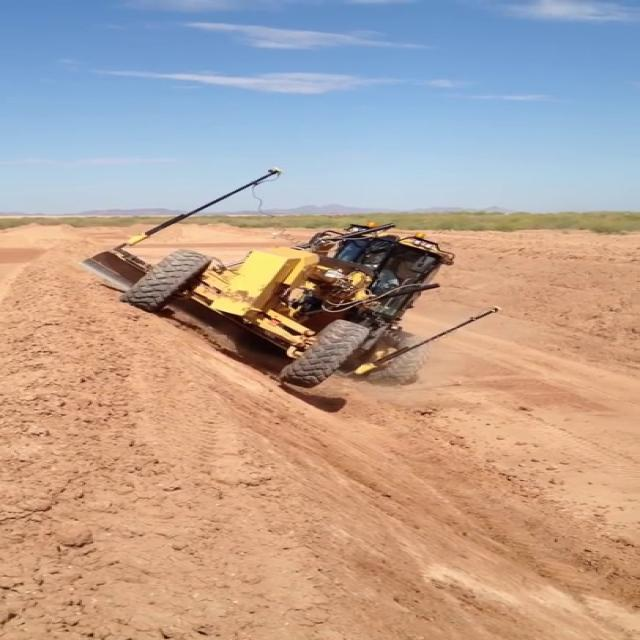buldozerpayloadergrader: (83, 169, 456, 388)
